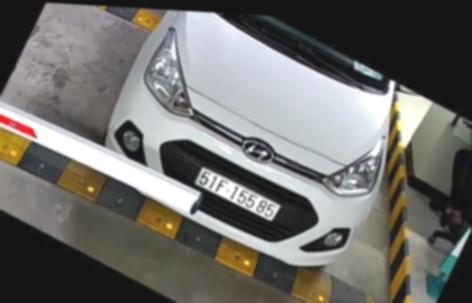License_Plate: (188, 160, 283, 228)
